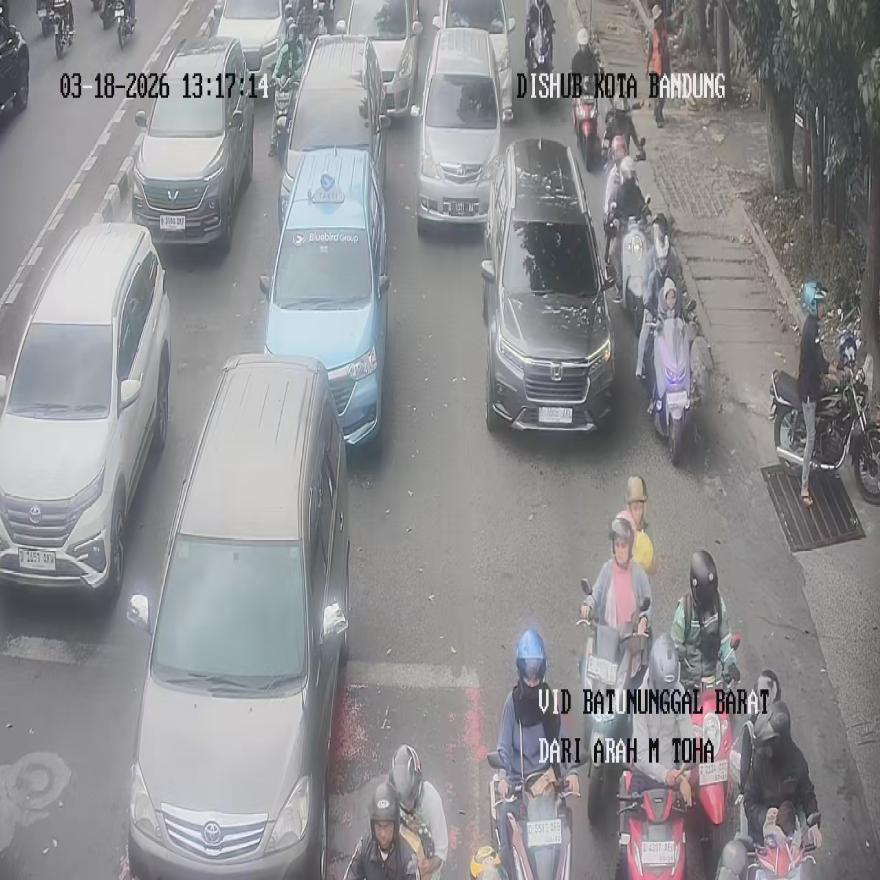Motor: (125, 353, 350, 878), (0, 221, 170, 600), (259, 148, 389, 451), (481, 138, 615, 430), (130, 35, 254, 250), (277, 31, 390, 232), (410, 25, 504, 232), (338, 0, 422, 121), (434, 0, 515, 121)
Truk: (575, 579, 649, 825), (768, 352, 880, 505), (737, 700, 822, 880), (488, 750, 578, 879), (615, 766, 690, 880), (647, 300, 697, 466), (605, 193, 651, 334), (0, 11, 30, 117), (646, 4, 669, 127), (269, 78, 298, 163), (526, 24, 552, 110), (573, 90, 599, 173), (52, 0, 74, 57), (116, 0, 136, 46)
